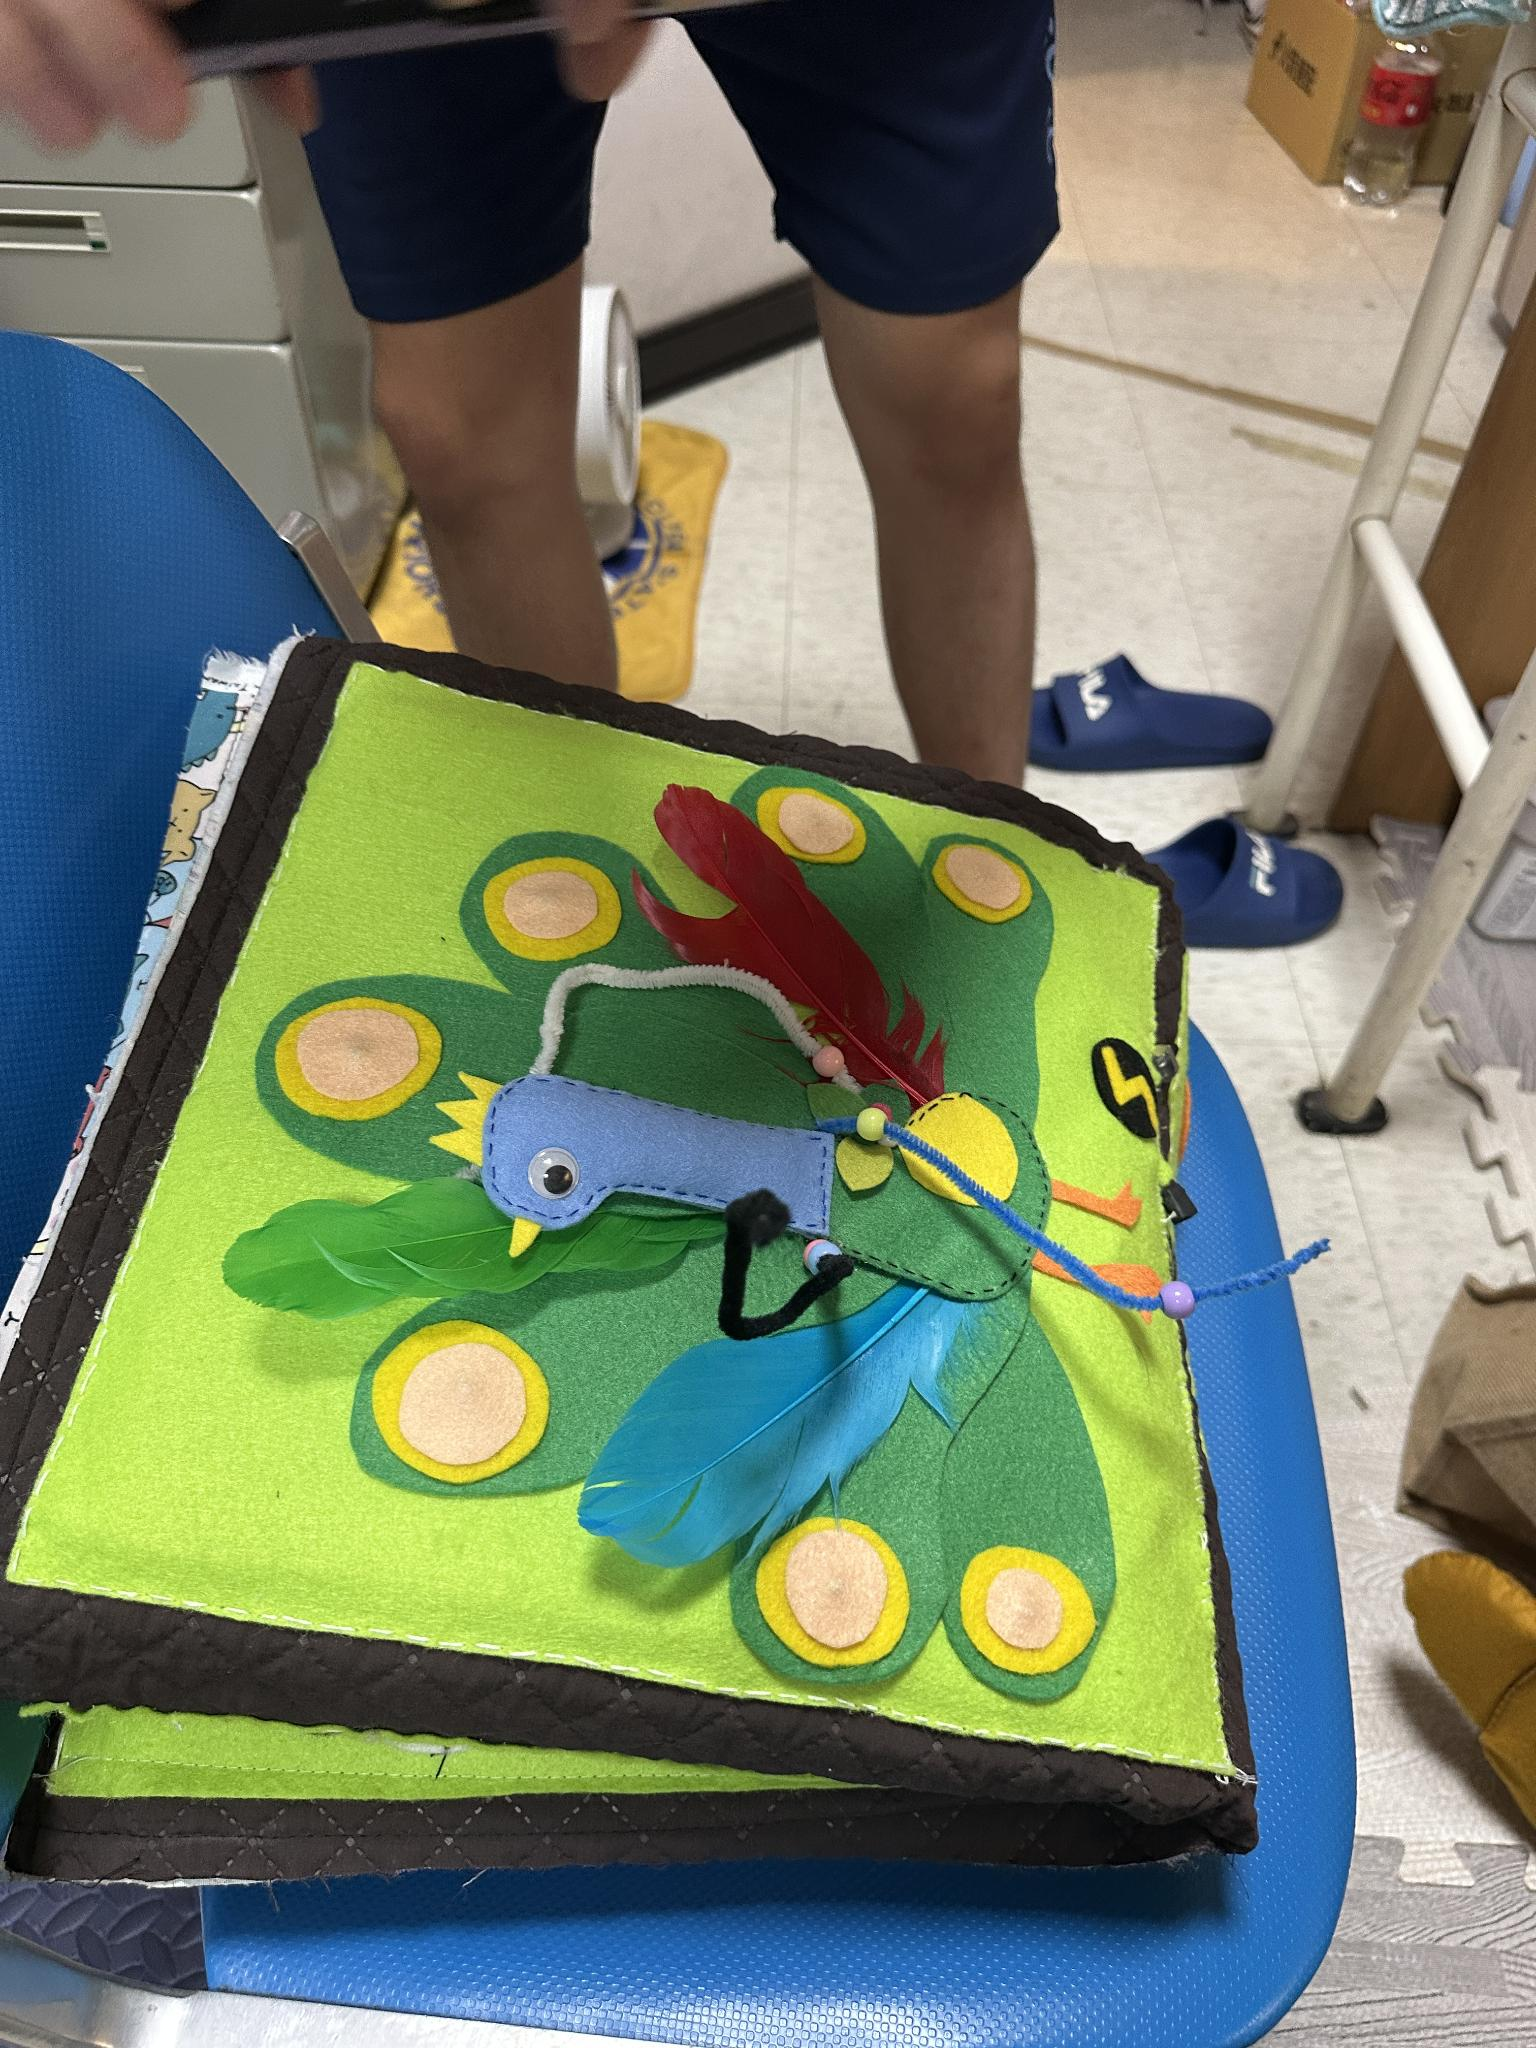bead: (855, 1101, 900, 1147), (810, 1035, 852, 1079), (1155, 1282, 1200, 1321), (810, 1243, 844, 1276), (799, 1230, 818, 1276)
